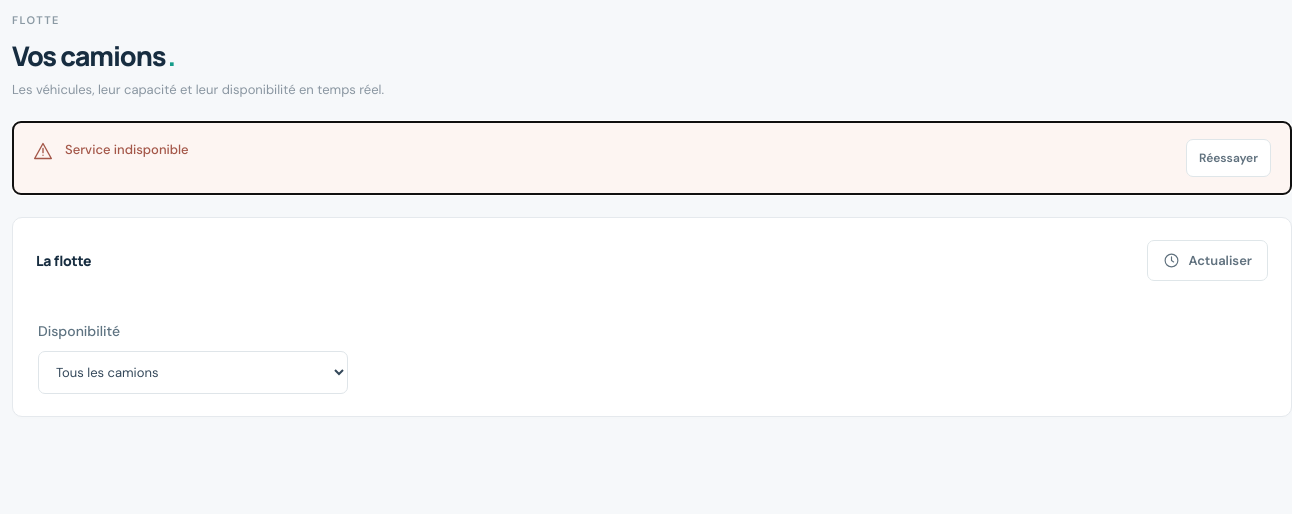
Test: propose une reprise après panne Camions
Expected: the message shows "Service indisponible", top-left (65, 141), bottom-right (189, 158)
Click the button "Réessayer".
click(1228, 158)  # box top-left (1186, 139), bottom-right (1271, 177)
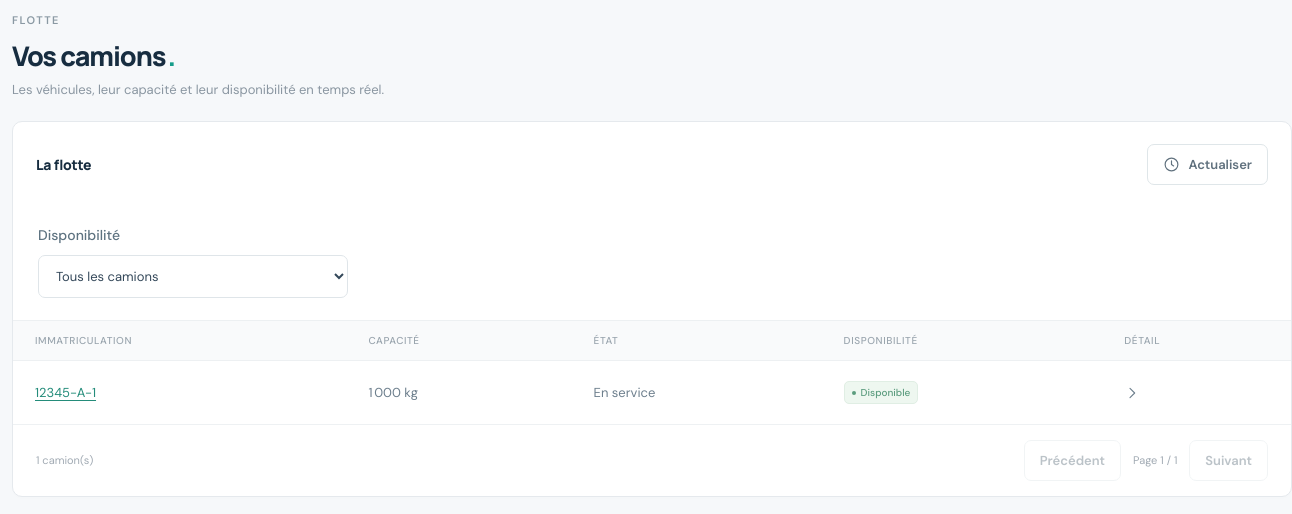
Now the link "12345-A-1" is shown, box top-left (35, 384), bottom-right (96, 401)
